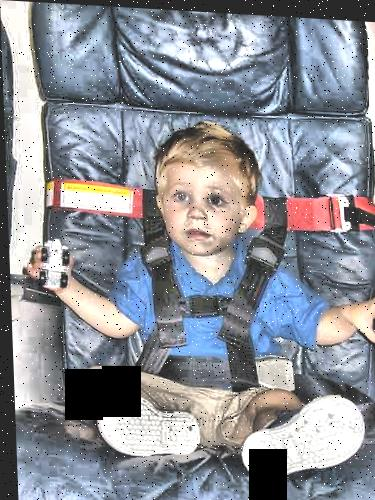seatbelt: (219, 189, 315, 321), (130, 182, 193, 344)
